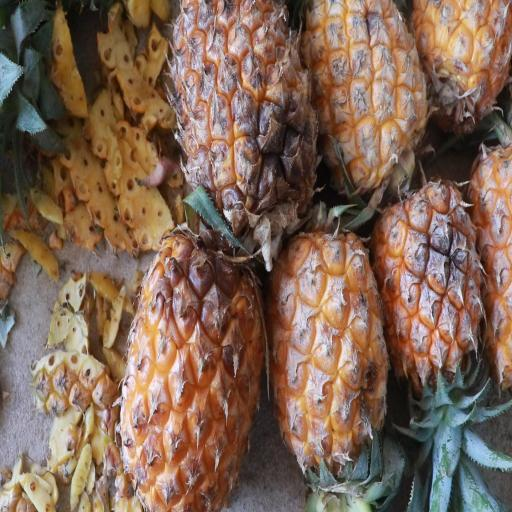Pineapple - v8 v1: (114, 221, 262, 512), (170, 0, 320, 245), (268, 216, 390, 474), (306, 0, 436, 205), (368, 175, 490, 387), (415, 0, 512, 148)
